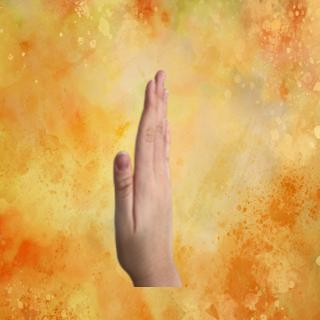Right: (109, 59, 180, 274)
